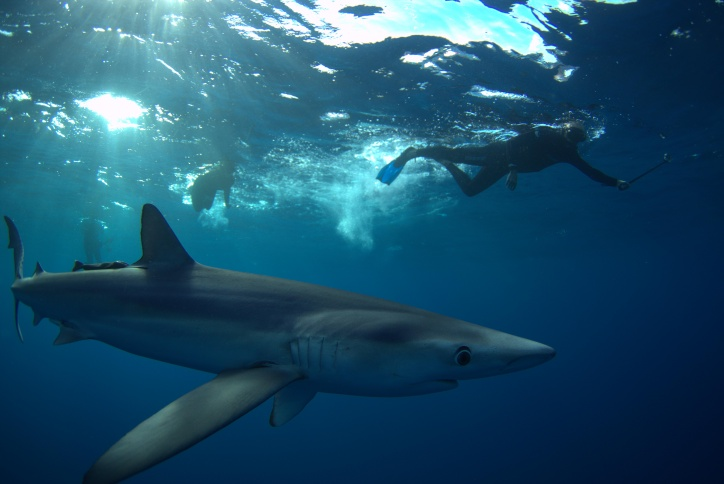Azul: (6, 187, 616, 484)
